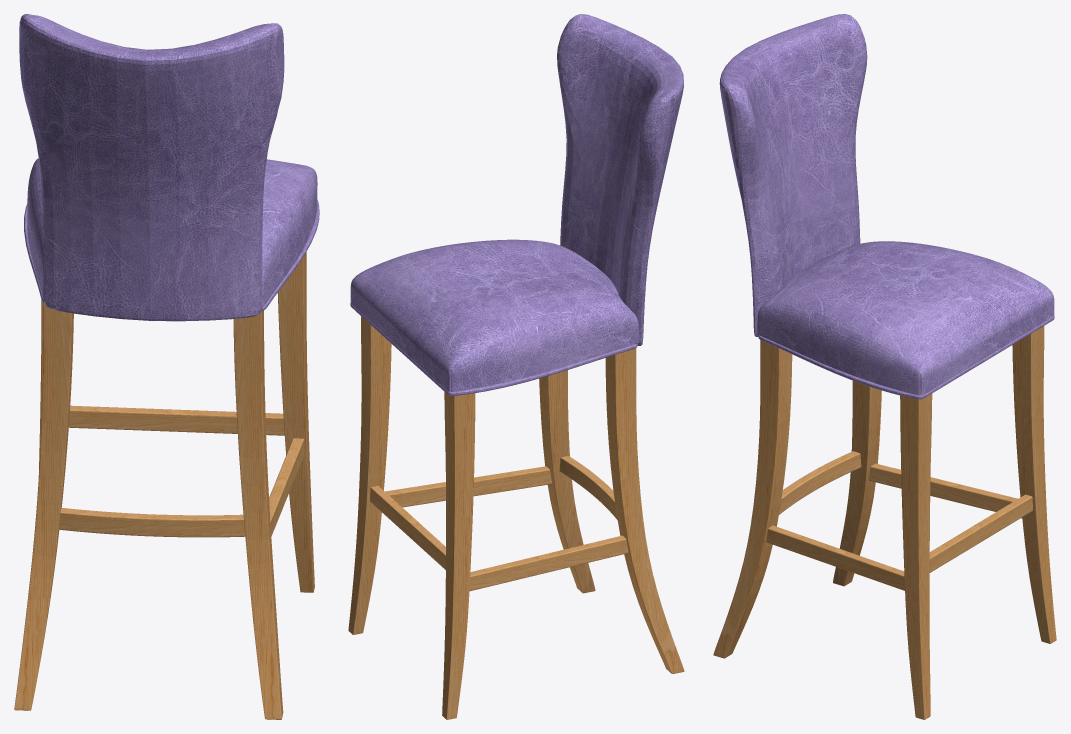
File: Chair bar vaccari international venezia beatrice N040519.obj
3 views of the same model, side by side, from view 1: azimuth 30°, elevation 25°; view 2: azimuth 150°, elevation 25°; view 3: azimuth 270°, elevation 25° (orthographic). The views are drawn at different scales.
Parts seen in each view (by area): view 1: Plane077, Box3071, Box3072, Box3068, Box3070, ChamferBox010, ChamferBox009, ChamferBox011, Shape068; view 2: Box3068, Plane077, Box3072, Box3069, Box3070, Box3071, ChamferBox012, ChamferBox011, ChamferBox010, Shape068, ChamferBox009; view 3: Plane077, Box3068, Box3071, Box3070, Box3069, Box3072, ChamferBox011, ChamferBox010, ChamferBox012, ChamferBox009, Shape068.
Boxes of the visible parts, box(x1,y1,x2,y2) form: Plane077: box(19, 14, 284, 321); Box3071: box(233, 310, 283, 719); Box3072: box(14, 302, 73, 710); Box3068: box(27, 158, 317, 306); Box3070: box(277, 252, 314, 592); ChamferBox010: box(68, 405, 284, 435); ChamferBox009: box(58, 507, 245, 537); ChamferBox011: box(269, 438, 304, 536); Shape068: box(24, 200, 319, 310); Box3068: box(350, 239, 639, 391); Plane077: box(557, 14, 683, 345); Box3072: box(605, 348, 684, 673); Box3069: box(442, 392, 475, 719); Box3070: box(348, 316, 391, 634); Box3071: box(539, 370, 595, 593); ChamferBox012: box(469, 535, 628, 591); ChamferBox011: box(385, 466, 552, 507); ChamferBox010: box(370, 485, 445, 569); Shape068: box(350, 303, 637, 395); ChamferBox009: box(559, 456, 617, 519); Plane077: box(719, 14, 867, 336); Box3068: box(757, 241, 1054, 395); Box3071: box(713, 340, 792, 658); Box3070: box(900, 393, 932, 719); Box3069: box(1012, 326, 1056, 643); Box3072: box(833, 381, 881, 586); ChamferBox011: box(766, 525, 904, 590); ChamferBox010: box(929, 494, 1032, 572); ChamferBox012: box(868, 463, 1022, 518); ChamferBox009: box(779, 451, 861, 514); Shape068: box(758, 316, 1054, 399).
Bounding box in the file's own units: 6088 × 11419 × 6227.
